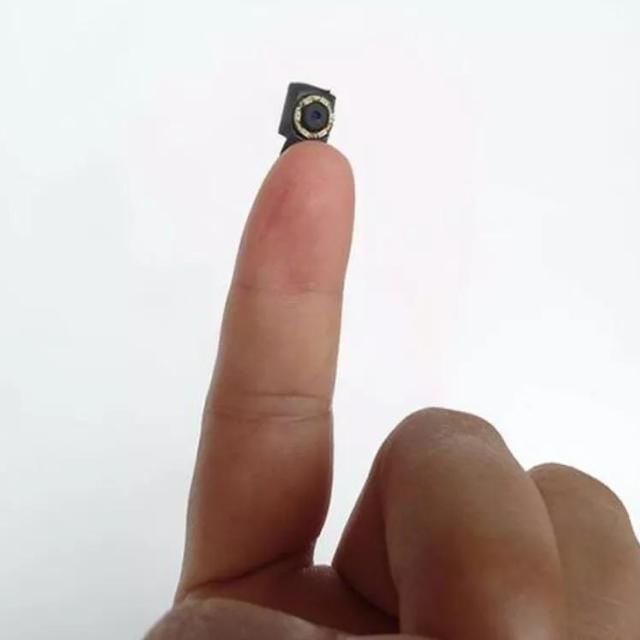hidden camera: (295, 93, 334, 138)
